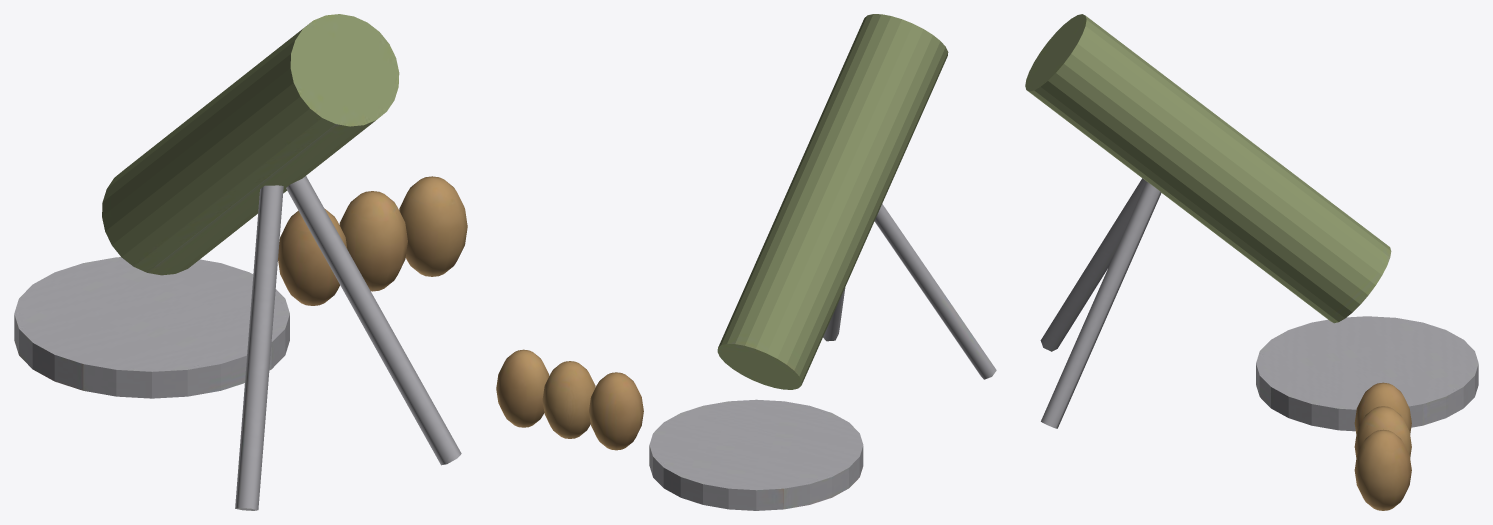
Rendered from mortar.glb.
The picture shows the model from 3 angles, left to right: view 1: azimuth 30°, elevation 25°; view 2: azimuth 150°, elevation 25°; view 3: azimuth 270°, elevation 25°; orthographic projection. The views are drawn at different scales.
Parts seen in each view (by area): view 1: mortar; view 2: mortar; view 3: mortar.
Boxes of the visible parts, <box> form: mortar: <box>14,14,467,510</box>; mortar: <box>496,14,996,510</box>; mortar: <box>1025,14,1478,510</box>.
Bounding box in the file's own units: 0.516 × 0.5207 × 0.5701.
Materials: 1 (1 with a texture image).
